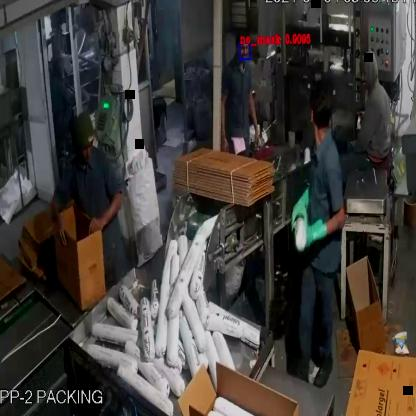glove: (284, 176, 314, 242), (299, 218, 331, 258)
no_glove: (83, 181, 128, 245), (43, 176, 81, 250), (210, 87, 237, 162), (245, 81, 263, 145)
